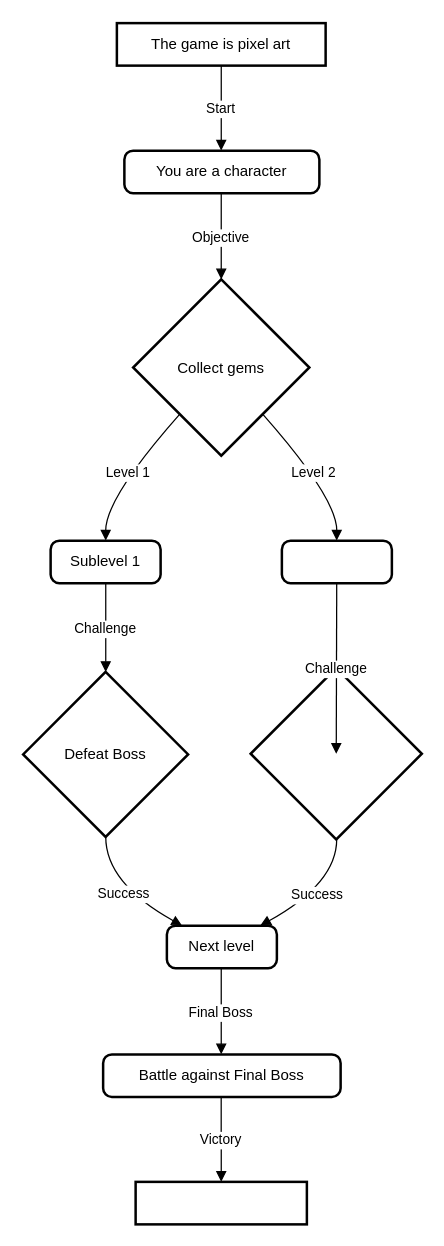
This 444x1246 diagram has some shape labels left out. The centre of each missing label's shape, as x and y in pixels:
"Game completed" goes at (x=221, y=1202).
"Solve Puzzle" goes at (x=335, y=753).
"Sublevel 2" goes at (x=336, y=561).
